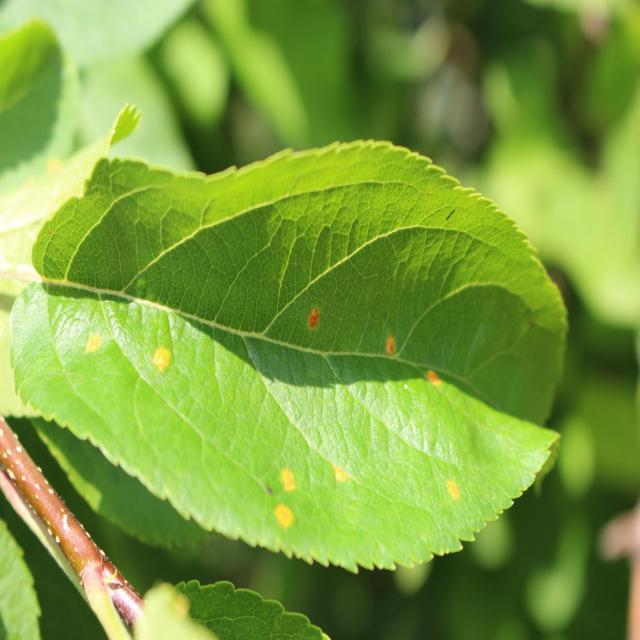Rust: (264, 499, 308, 544), (321, 455, 372, 493), (144, 344, 183, 380), (77, 319, 109, 358), (269, 462, 305, 496), (300, 296, 326, 338), (440, 475, 470, 509), (421, 356, 440, 401), (380, 325, 399, 368)
